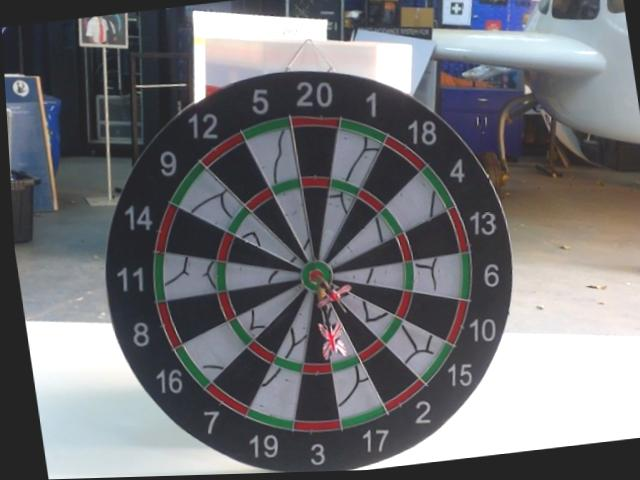bullseye: (311, 272, 325, 284)
